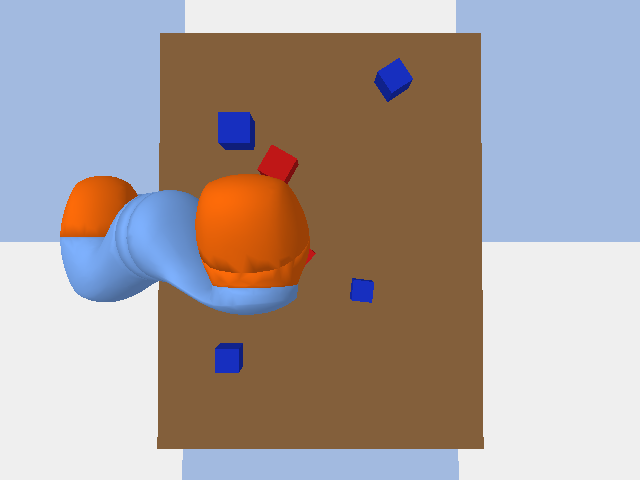blue_obj: (374, 58, 412, 101), (218, 112, 254, 149), (215, 343, 242, 372), (350, 278, 373, 302)
red_obj: (257, 145, 298, 183), (304, 249, 315, 266)
